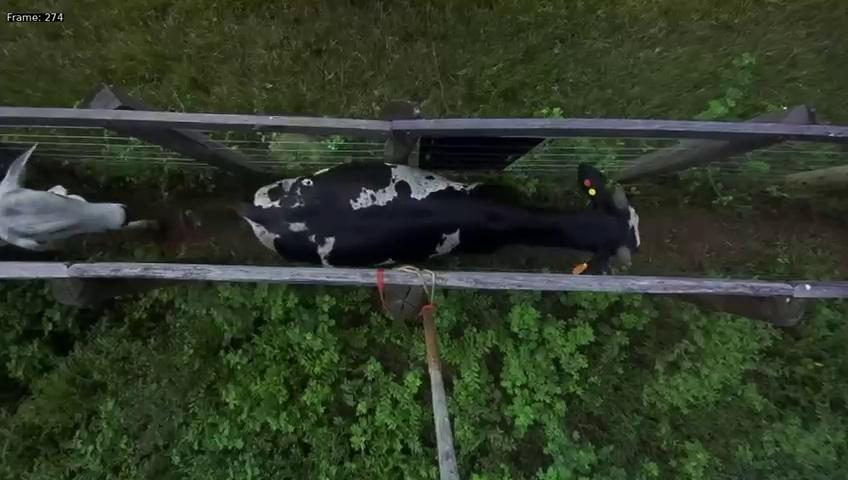cattle: (221, 143, 649, 283)
